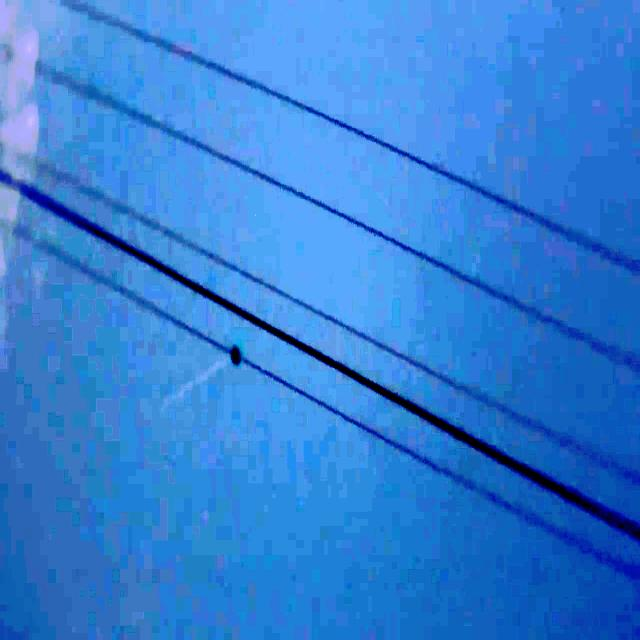obstruction: (230, 345, 242, 364)
wires: (0, 168, 640, 540), (41, 68, 620, 358), (61, 0, 640, 274), (240, 359, 640, 580), (120, 210, 498, 405), (16, 225, 230, 356), (578, 498, 640, 537), (5, 174, 44, 202), (499, 402, 532, 419), (560, 483, 580, 500)
